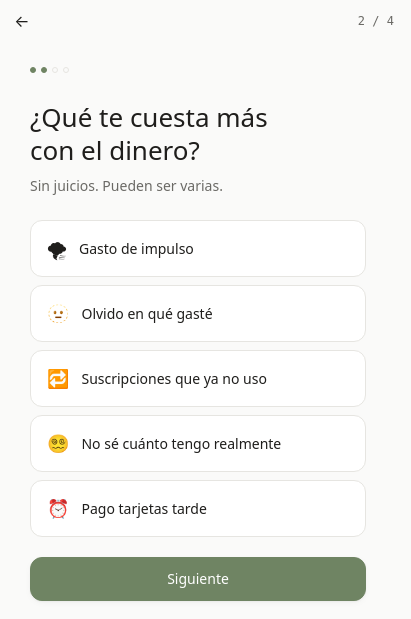
Test case: Onboarding › pain points › lets the user pick several and un-pick one, keeping the draft in sync
The image size is (411, 619).
What coordinates should you click on to do the following:
click the button "🌪 Gasto de impulso"
I would click on:
 (136, 248)
Its box is [30,220,366,277].
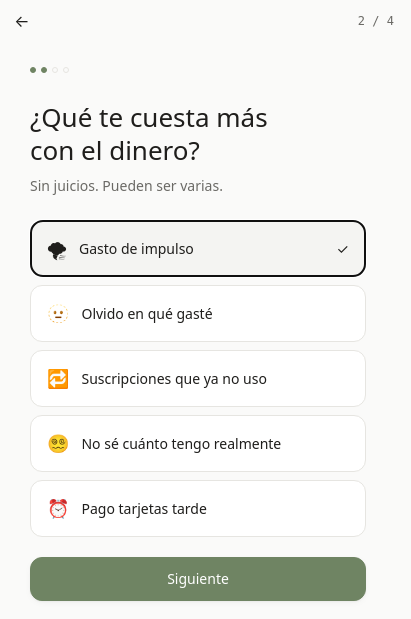
What coordinates should you click on to do the following:
click the button "🔁 Suscripciones que ya no uso"
I would click on:
 (198, 378)
Its box is [30,350,366,407].
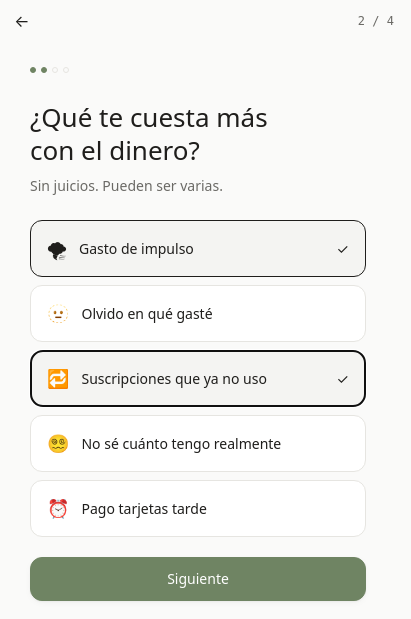
Now the text "✓" is shown 2 times, box [337,238,349,259]; [337,368,349,389]
What coordinates should you click on to do the following:
click the button "🌪 Gasto de impulso ✓"
I would click on:
 (136, 248)
Its box is [30,220,366,277].
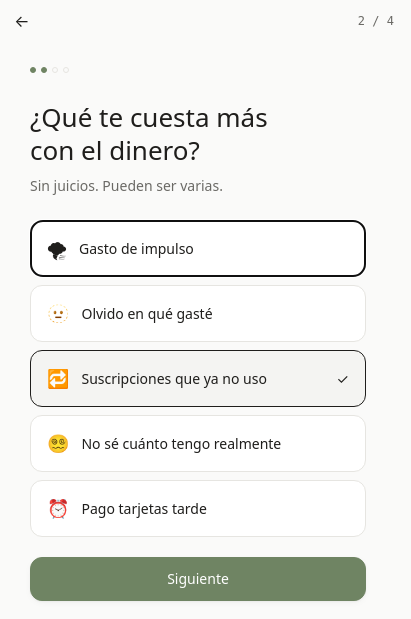
Now the text "✓" is shown once, box [337,368,349,389]
